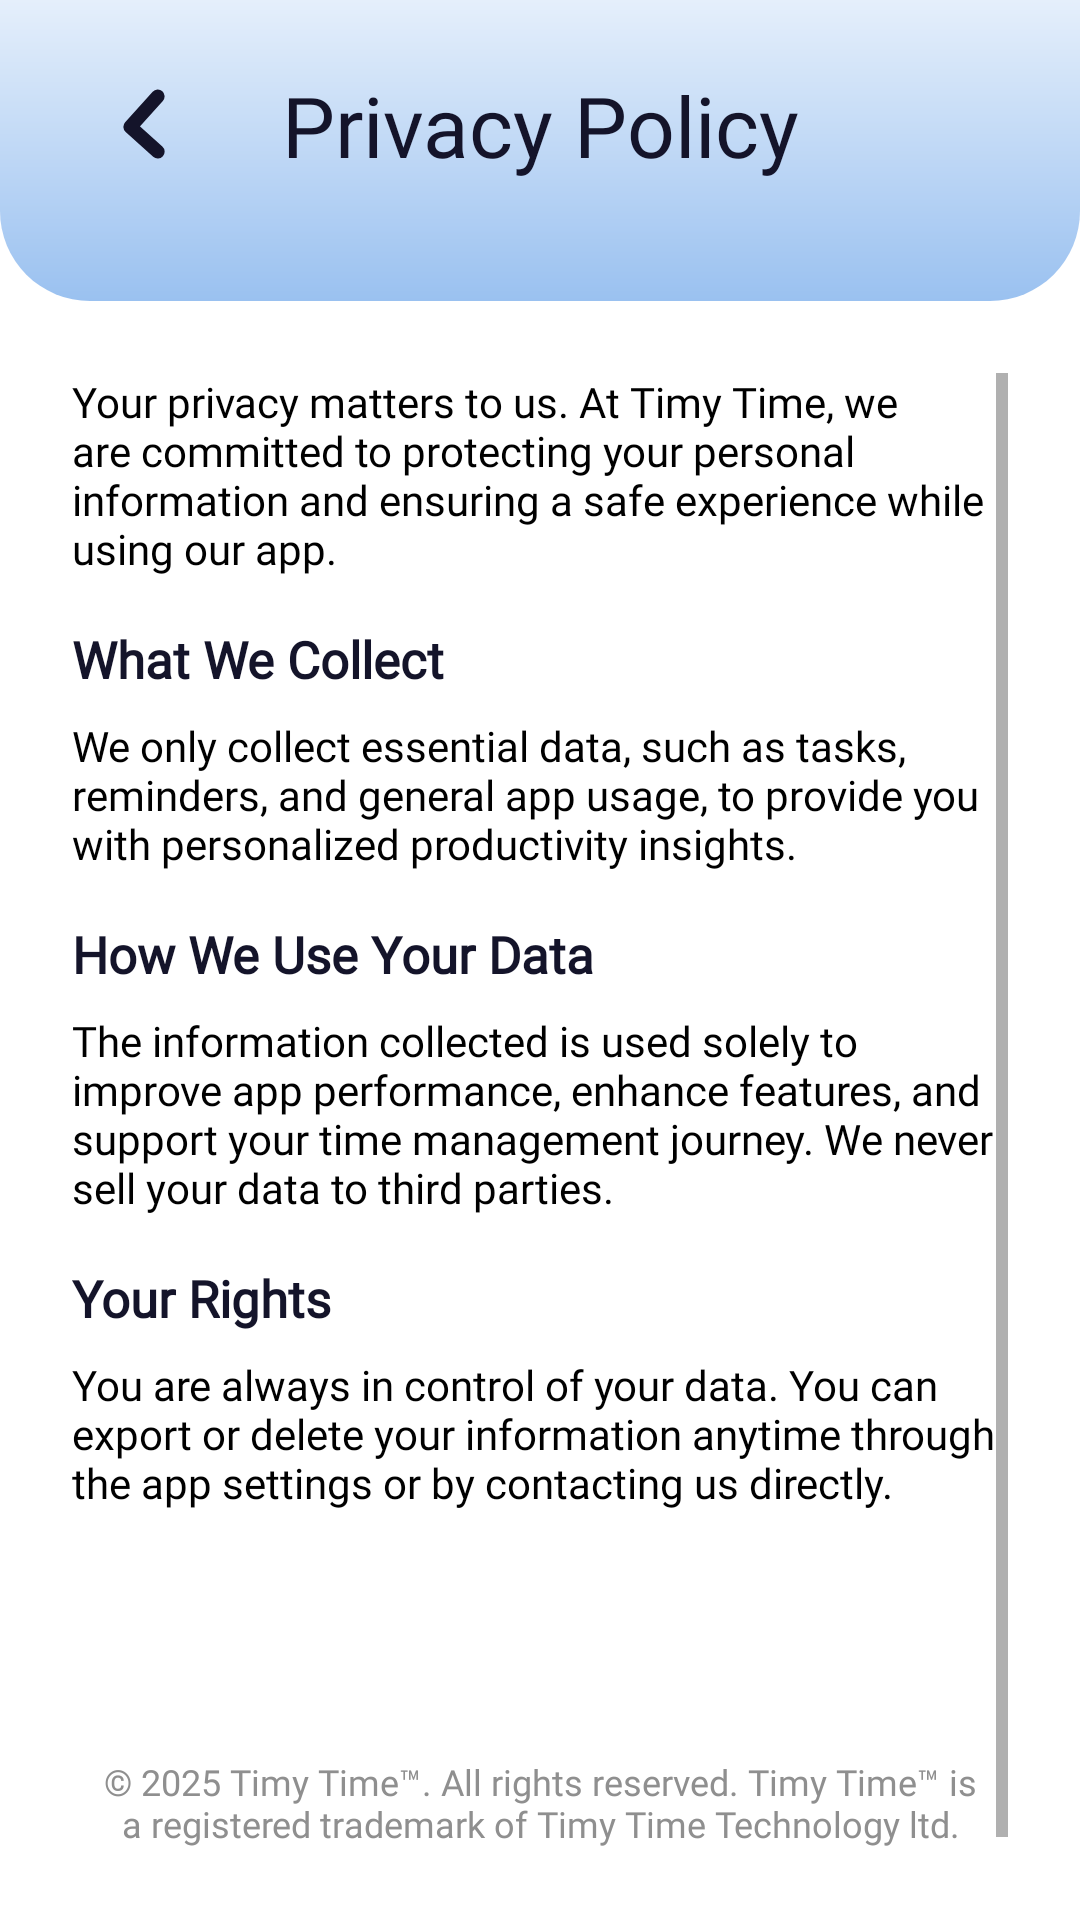

Icon bounding boxes for this 1080 × 1920 phone screenshot, format box=[x1, y1, x2, y2]:
Back: box=[123, 89, 165, 159]
